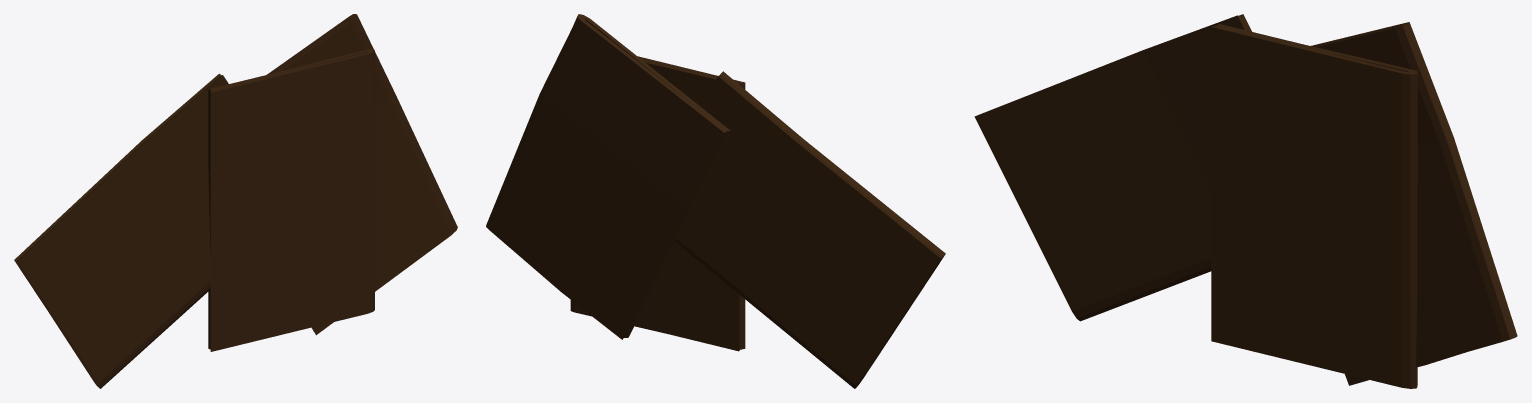
Rendered from Trash.fbx.
The picture shows the model from 3 angles, left to right: view 1: azimuth 30°, elevation 25°; view 2: azimuth 150°, elevation 25°; view 3: azimuth 330°, elevation 25°; orthographic projection. The views are drawn at different scales.
Visible parts, largest first — view 1: Newspaper 2; view 2: Newspaper 2; view 3: Newspaper 2.
Boxes of the visible parts, bbox=[...] form: Newspaper 2: bbox=[14, 14, 457, 388]; Newspaper 2: bbox=[486, 14, 945, 388]; Newspaper 2: bbox=[974, 14, 1517, 388].
Size of the model in its own units: 129 by 85.28 by 7.86.
